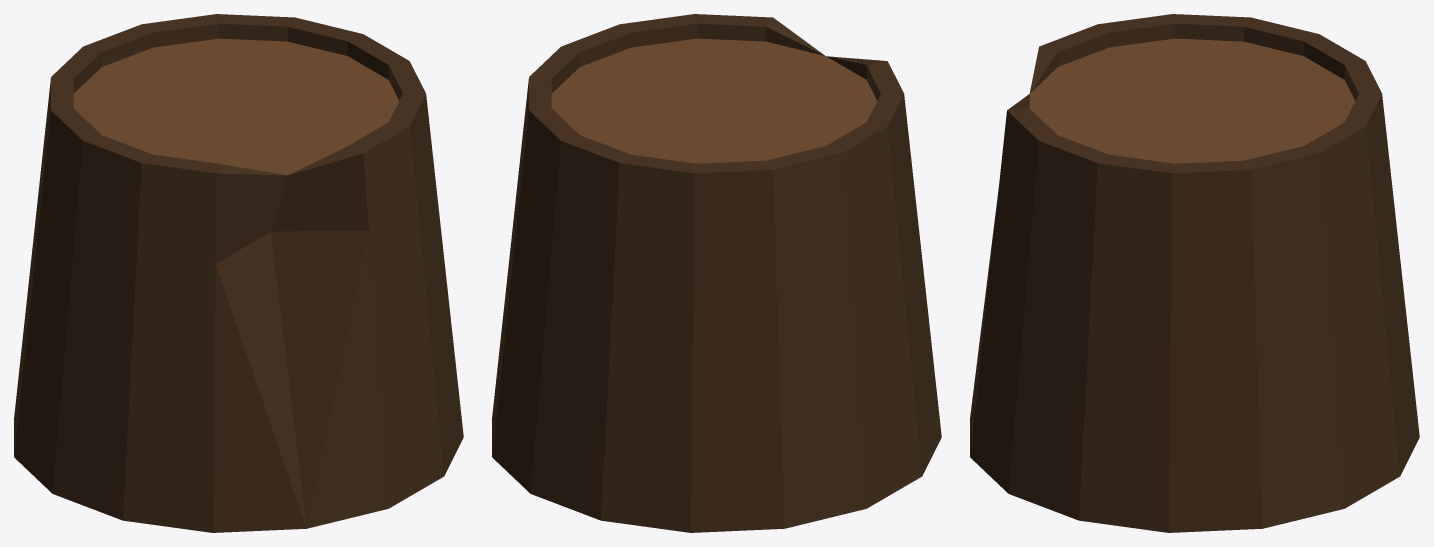
Rendered from Tree_Trunk_8_Dark_Brown.fbx.
3 views of the same model, side by side, from view 1: azimuth 30°, elevation 25°; view 2: azimuth 150°, elevation 25°; view 3: azimuth 270°, elevation 25° (orthographic).
Parts seen in each view (by area): view 1: Tree_Trunk_8_Dark_Brown; view 2: Tree_Trunk_8_Dark_Brown; view 3: Tree_Trunk_8_Dark_Brown.
Part boxes in pixels (<box>): Tree_Trunk_8_Dark_Brown: <box>14,14,463,532</box>; Tree_Trunk_8_Dark_Brown: <box>492,14,941,532</box>; Tree_Trunk_8_Dark_Brown: <box>970,14,1419,532</box>.
Bounding box in the file's own units: 119 × 100 × 119.
